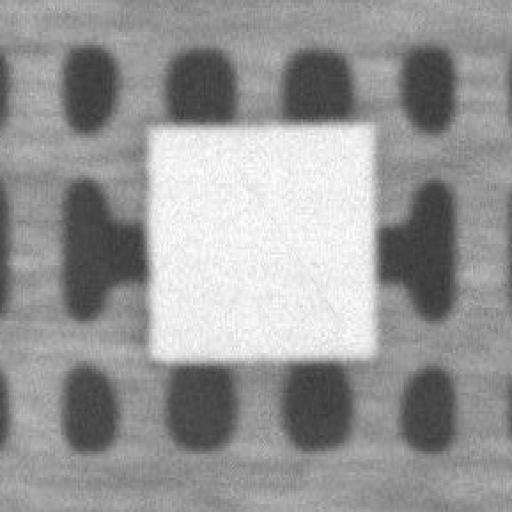DIE_CRACK: (342, 103, 512, 216)
